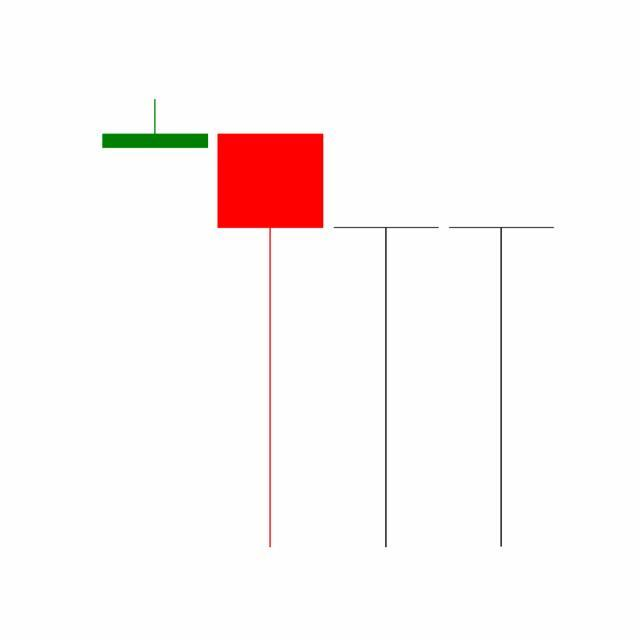Dragonfly Doji: (444, 224, 560, 551)
